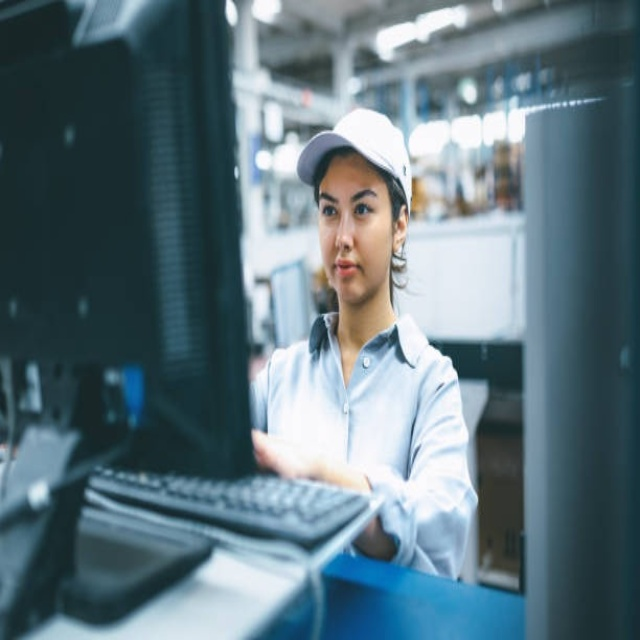Sin_gafas: (318, 187, 380, 227)
Sin_mascara: (325, 253, 368, 298)
